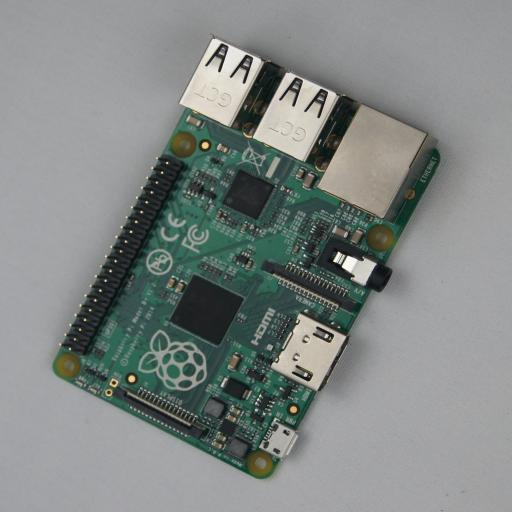Raspberry Pi 1 B-: (53, 35, 446, 479)
